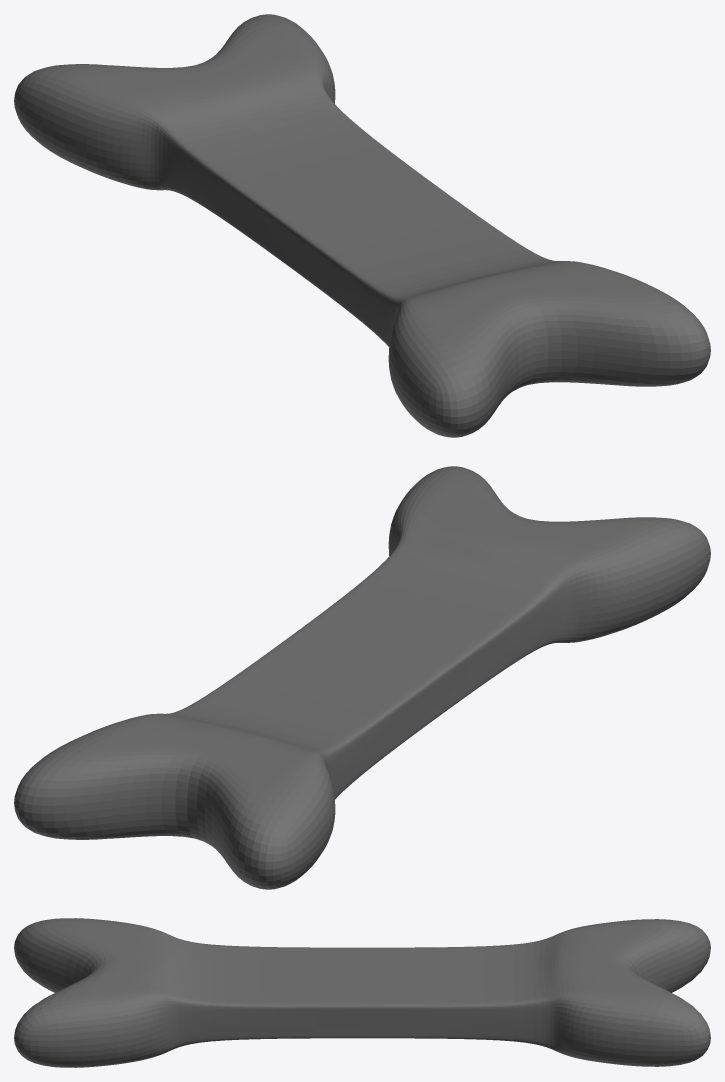
File: wrench.obj
3 views of the same model, one above another, from view 1: azimuth 30°, elevation 25°; view 2: azimuth 150°, elevation 25°; view 3: azimuth 270°, elevation 25° (orthographic). The views are drawn at different scales.
Parts seen in each view (by area): view 1: Cube; view 2: Cube; view 3: Cube.
Part boxes in pixels (bbox=[...]): Cube: bbox=[14, 14, 710, 437]; Cube: bbox=[14, 466, 710, 889]; Cube: bbox=[14, 918, 710, 1067].
Size of the model in its own units: 0.7103 by 0.2052 by 1.95.
1 material, 1 textured.
